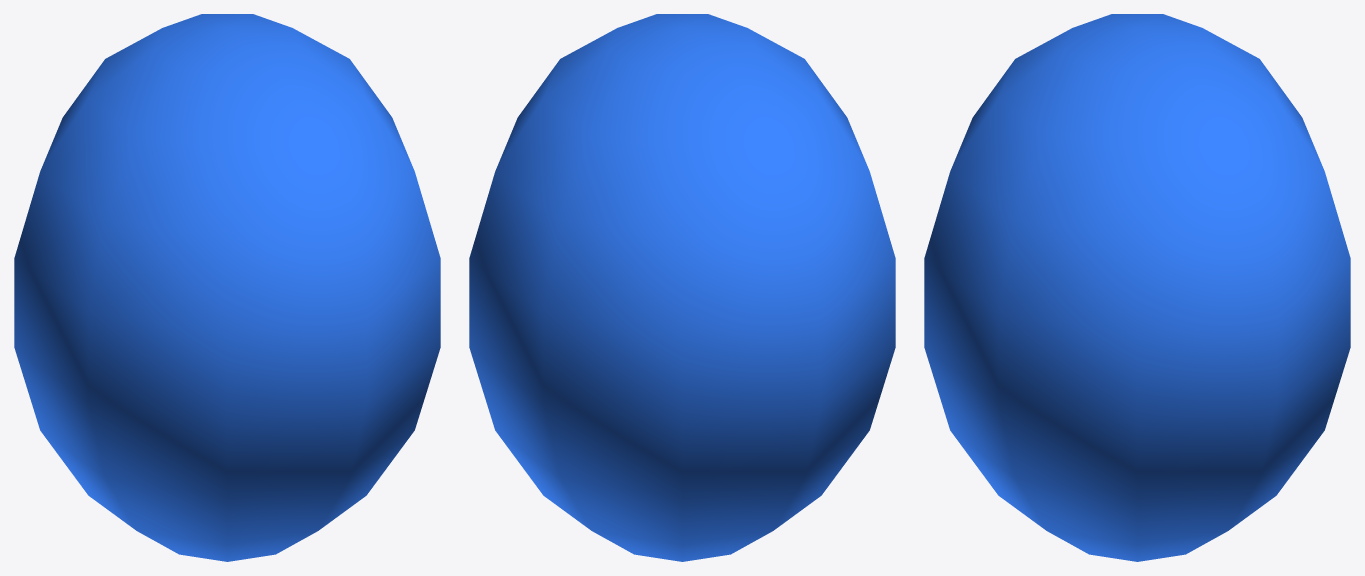
The model's file is coralina_stage1.obj.
The picture shows the model from 3 angles, left to right: view 1: azimuth 30°, elevation 25°; view 2: azimuth 150°, elevation 25°; view 3: azimuth 270°, elevation 25°; orthographic projection.
Size of the model in its own units: 1.34 by 1.82 by 1.36.
